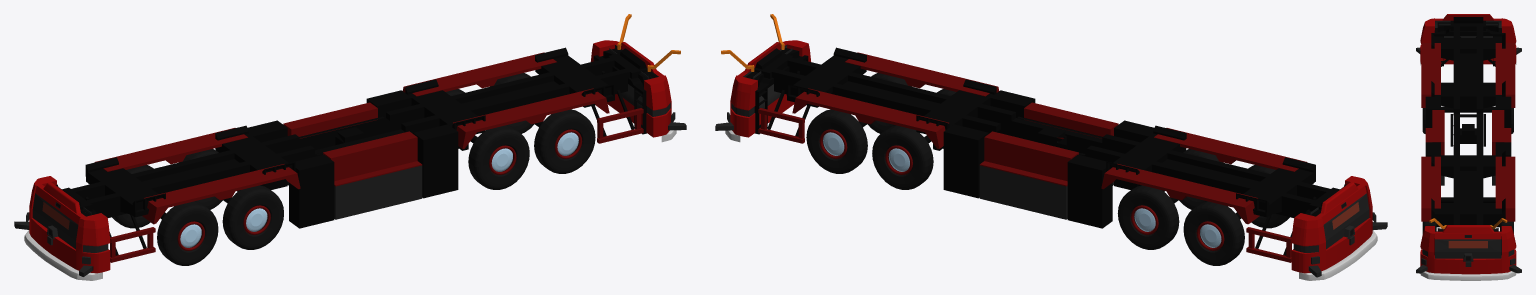
Rendered from sm_aiv_new.fbx.
3 renders of one model, left to right at view 1: azimuth 30°, elevation 25°; view 2: azimuth 150°, elevation 25°; view 3: azimuth 270°, elevation 25°, orthographic. The views are drawn at different scales.
Visible parts, largest first — view 1: sm_aiv_new; view 2: sm_aiv_new; view 3: sm_aiv_new.
Boxes of the visible parts, bbox=[...] form: sm_aiv_new: bbox=[14, 14, 686, 280]; sm_aiv_new: bbox=[715, 14, 1387, 280]; sm_aiv_new: bbox=[1416, 14, 1521, 280].
Bounding box in the file's own units: 14.87 × 2.12 × 2.96.
